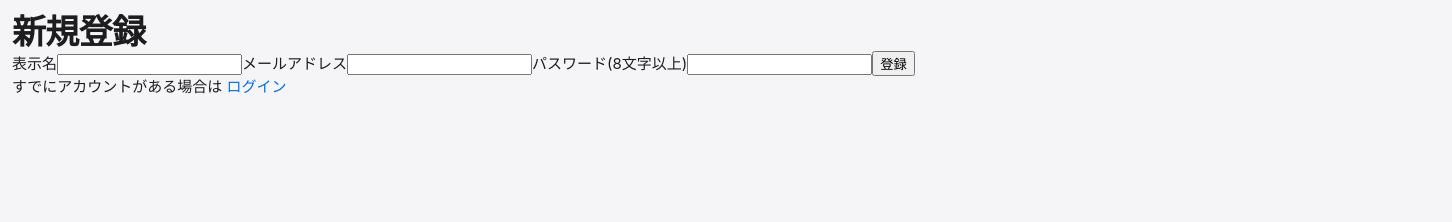
Test: Signup › メール重複などのバリデーションエラーを表示する
In the field labelled "表示名": (150, 65) [57, 54, 242, 75], type "Alice"
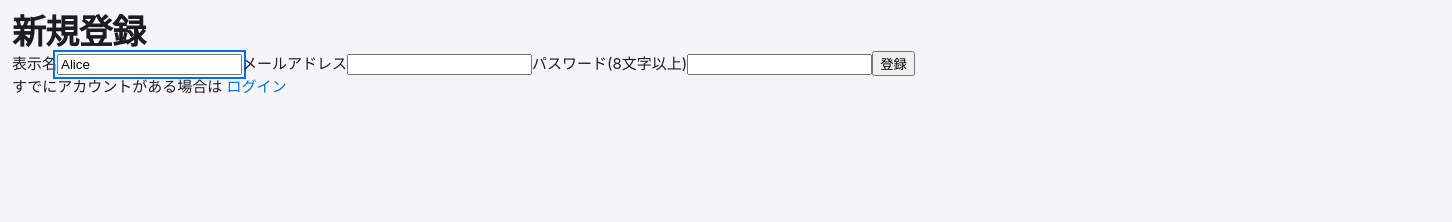
In the field labelled "メールアドレス": (440, 65) [347, 54, 532, 75], type "dup@example.com"
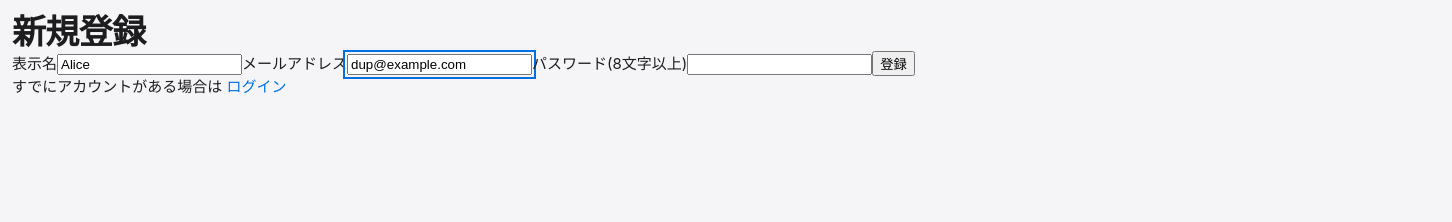
In the password field labelled "パスワード(8文字以上)": (780, 65) [687, 54, 872, 75], type "password123"
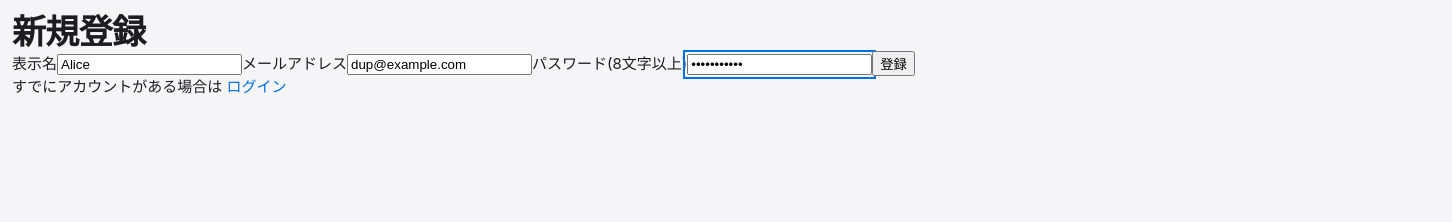
Click the button "登録": (894, 64) [872, 51, 915, 76]
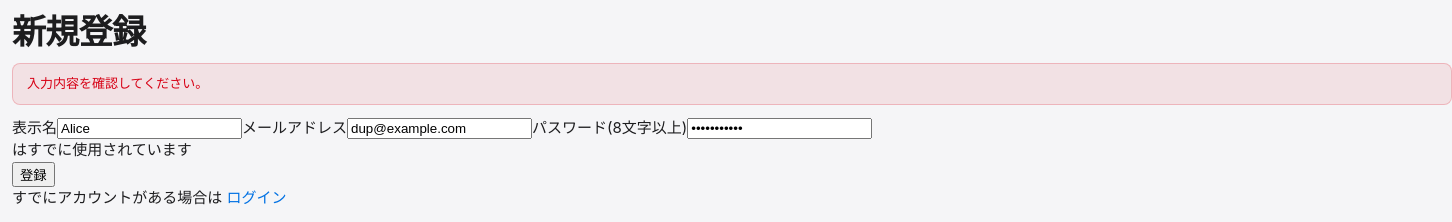
Check: the text "はすでに使用されています" is shown, box [12, 140, 192, 159]
